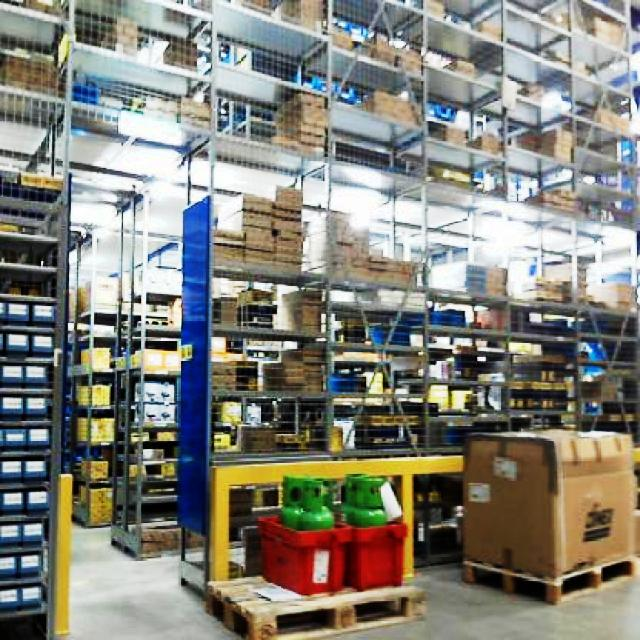ground: (0, 506, 638, 638)
pallet: (71, 182, 638, 528), (200, 426, 638, 638), (206, 449, 463, 594), (0, 163, 71, 638), (458, 426, 638, 603), (69, 298, 180, 528), (205, 572, 426, 638)
